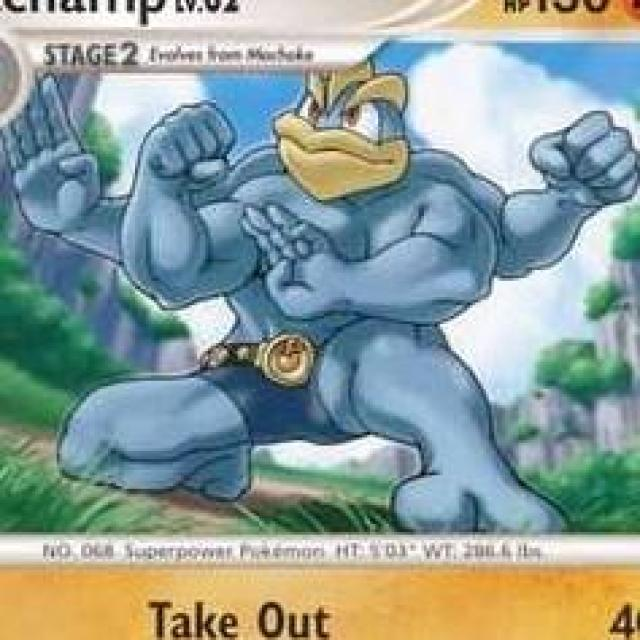Machamp: (116, 60, 501, 482)
